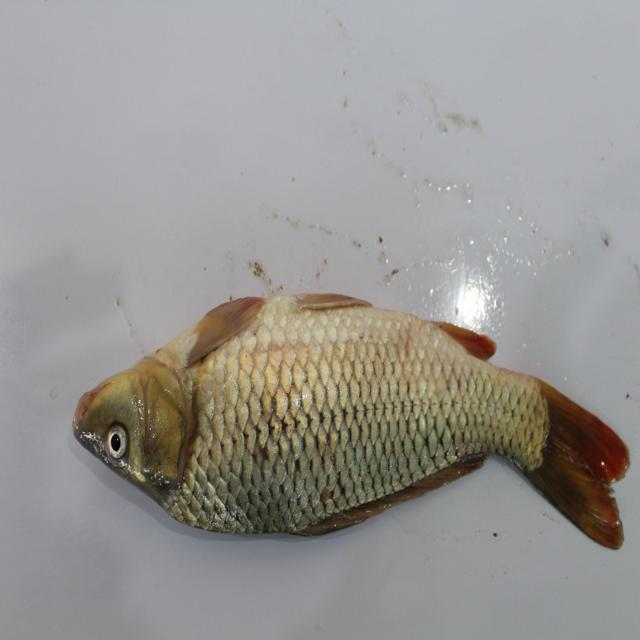CommonCarp: (52, 278, 640, 580)
